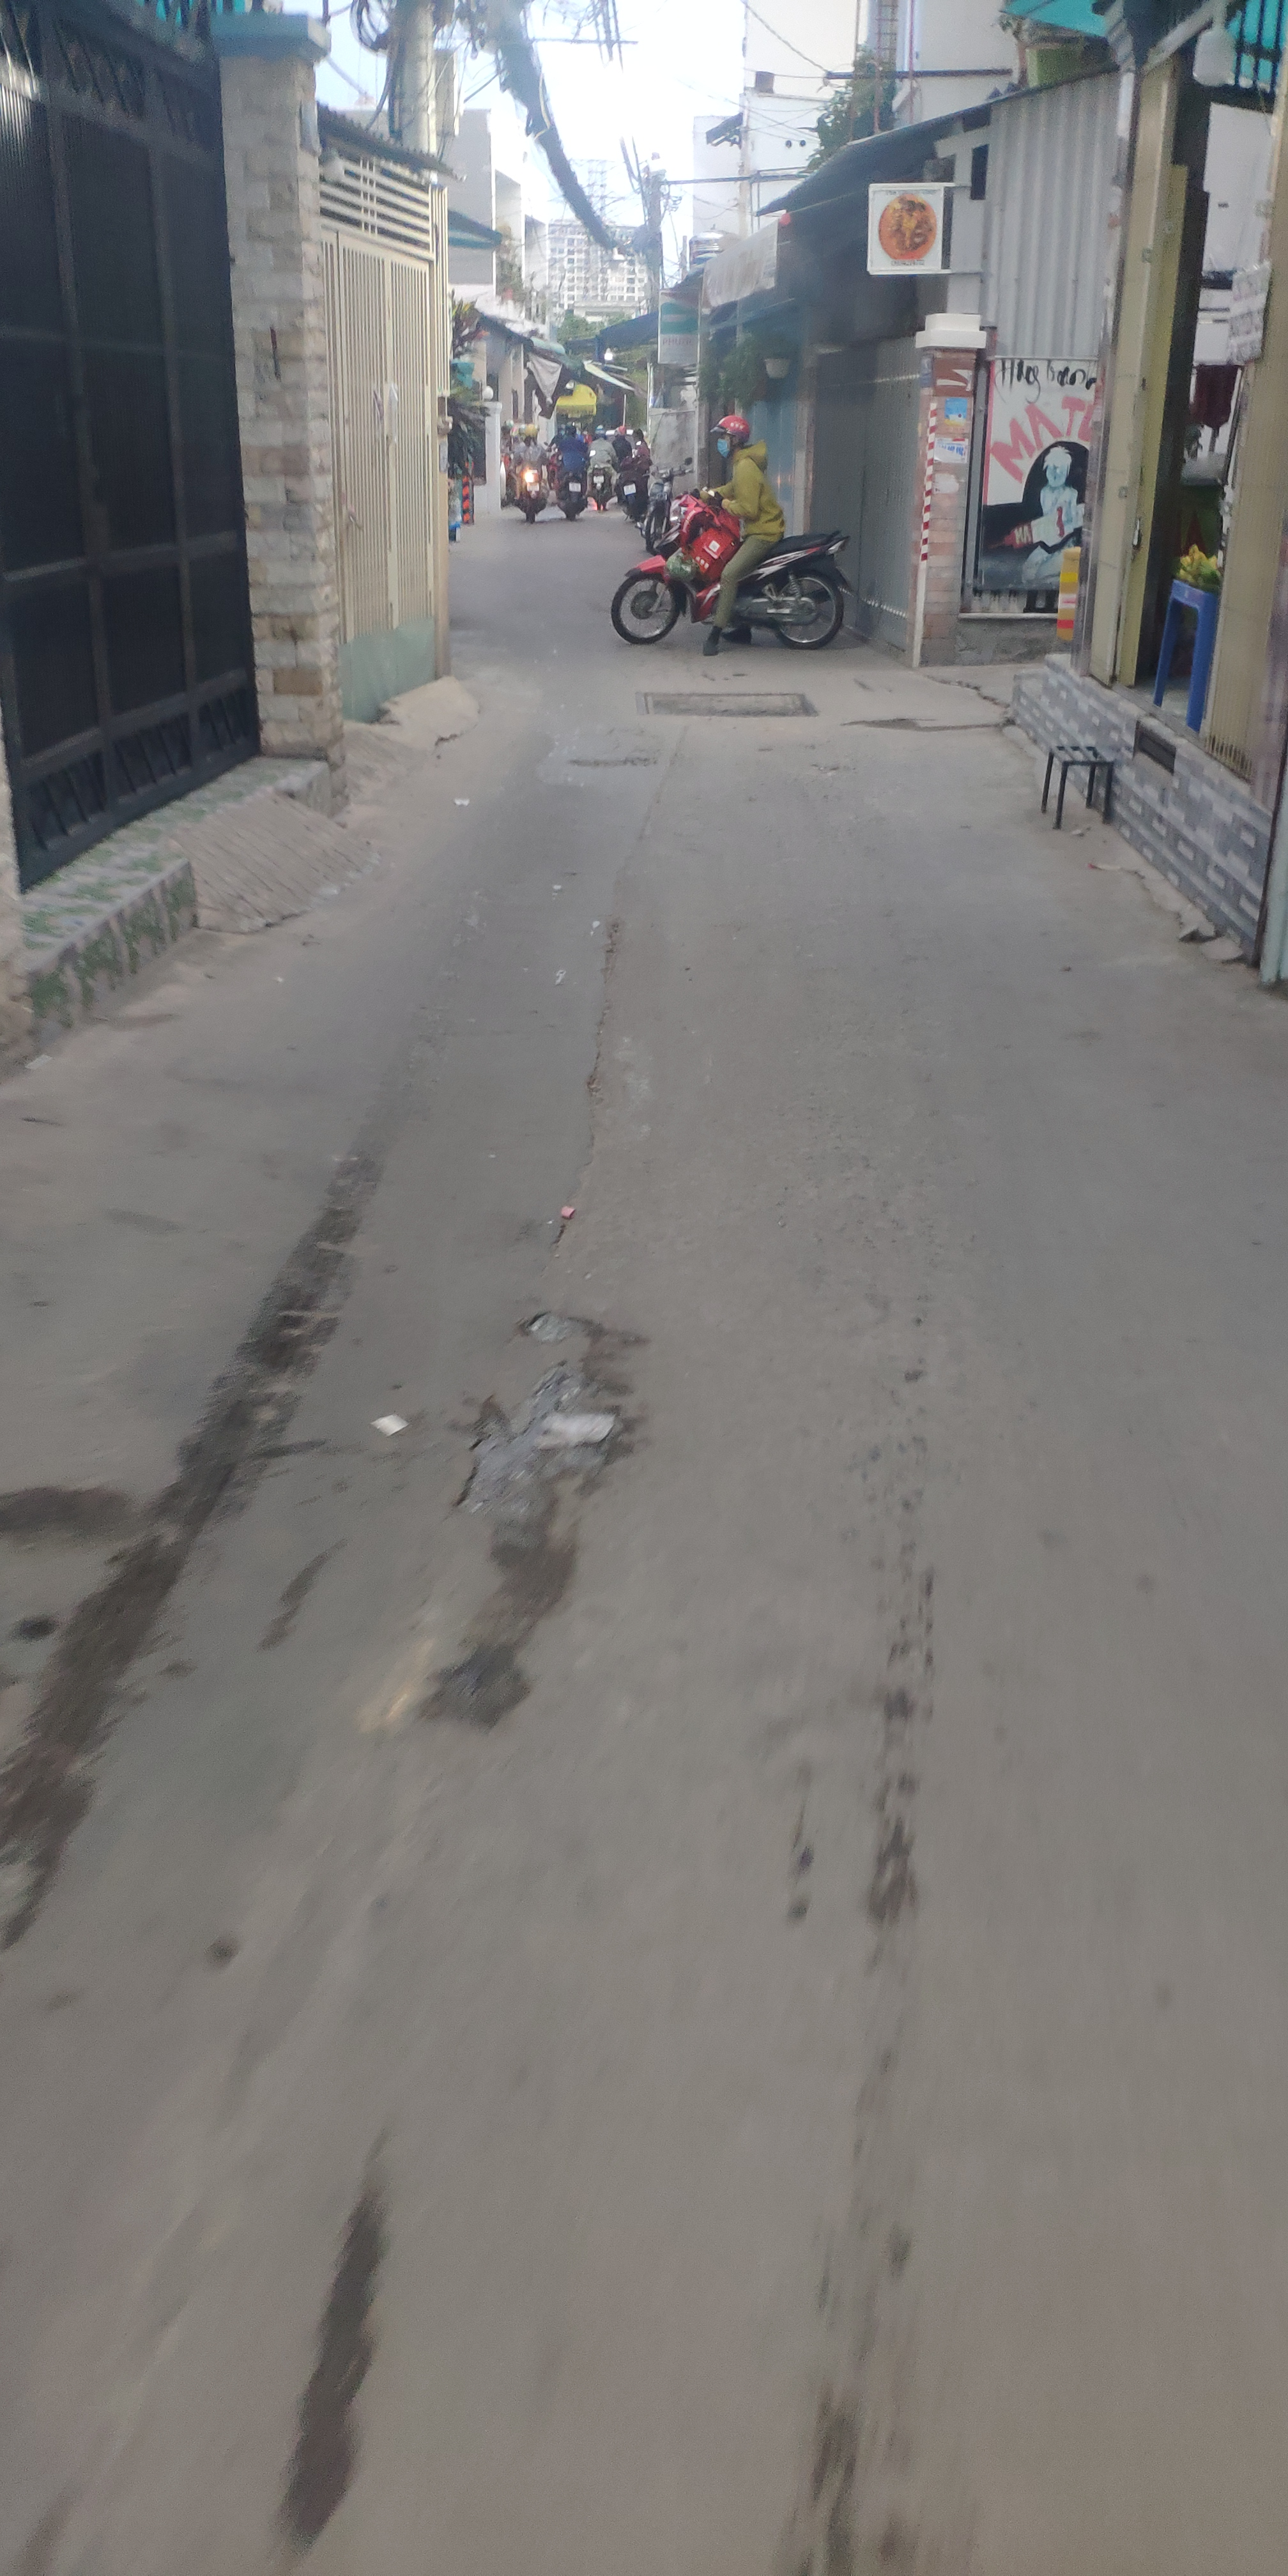hole: (463, 1311, 609, 1518)
